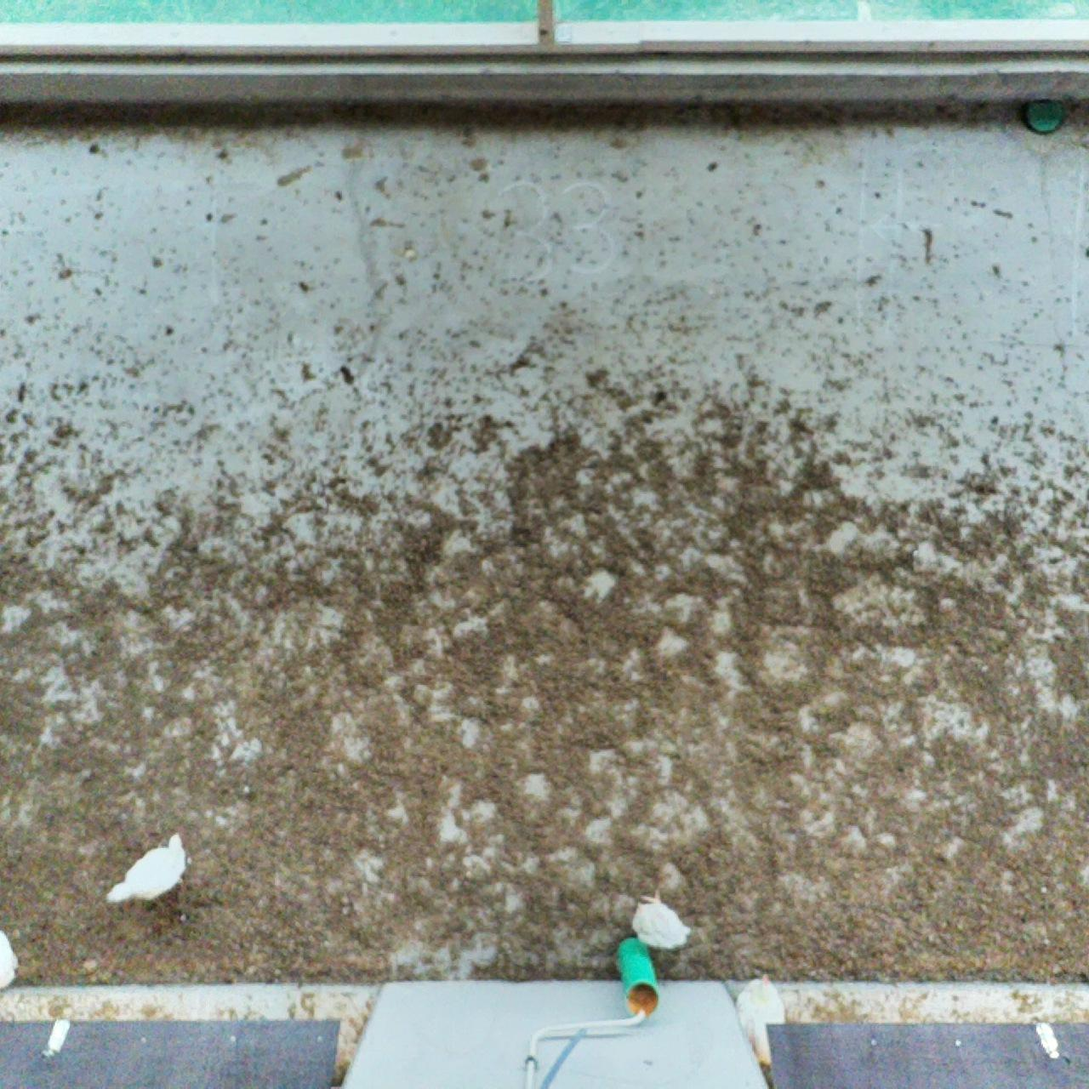chicken: (98, 828, 192, 917), (734, 970, 790, 1071), (630, 885, 696, 956), (0, 925, 26, 998)
